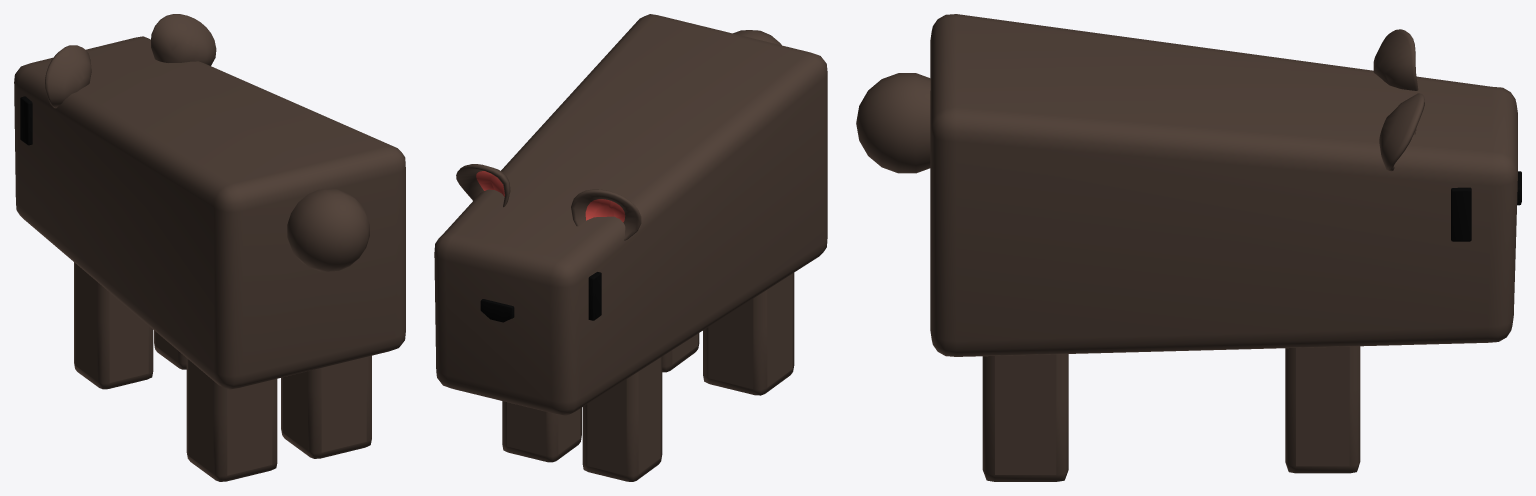
File: Character_Bear_01a.fbx
3 renders of one model, left to right at view 1: azimuth 30°, elevation 25°; view 2: azimuth 150°, elevation 25°; view 3: azimuth 270°, elevation 25°, orthographic. The views are drawn at different scales.
Parts seen in each view (by area): view 1: Character_Bear_01a; view 2: Character_Bear_01a; view 3: Character_Bear_01a.
Part boxes in pixels (x1,y1,x2,y2): Character_Bear_01a: [14, 14, 405, 481]; Character_Bear_01a: [434, 14, 827, 481]; Character_Bear_01a: [856, 14, 1521, 481].
Bounding box in the file's own units: 81.97 × 129 × 206.
